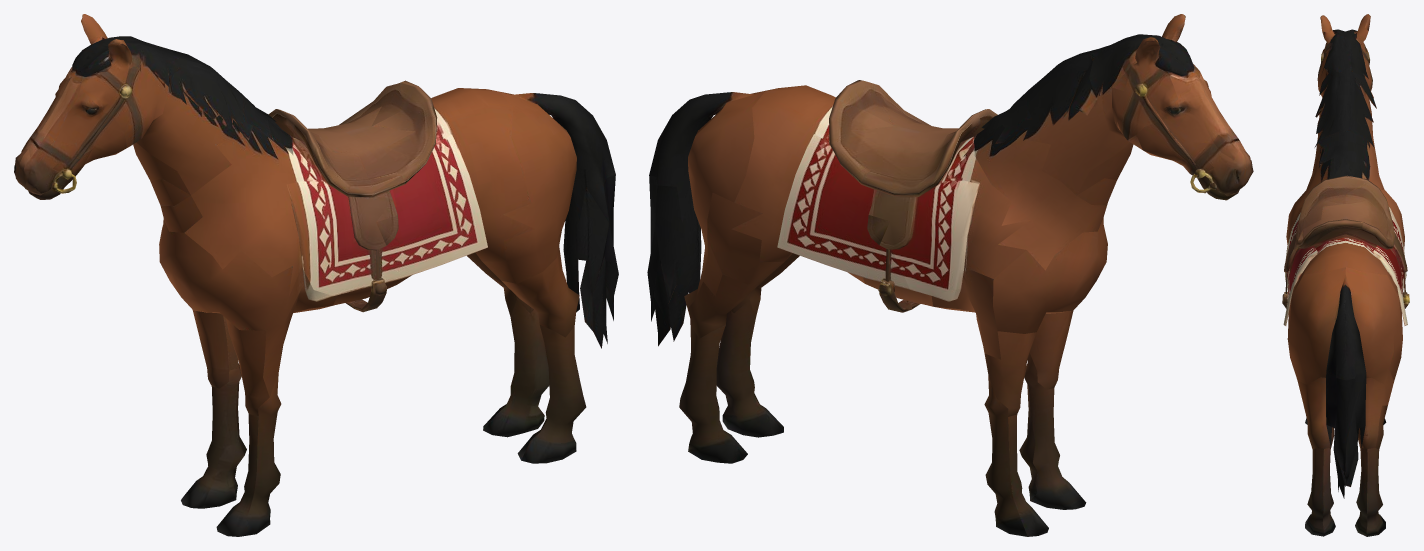
The model's file is war-horse-alternative.glb.
3 views of the same model, side by side, from view 1: azimuth 30°, elevation 25°; view 2: azimuth 150°, elevation 25°; view 3: azimuth 270°, elevation 25° (orthographic). The views are drawn at different scales.
Parts seen in each view (by area): view 1: mesh_node; view 2: mesh_node; view 3: mesh_node.
Boxes of the visible parts, x1,y1,x2,y2 form: mesh_node: [14, 14, 618, 536]; mesh_node: [647, 14, 1253, 536]; mesh_node: [1282, 14, 1409, 536].
Bounding box in the file's own units: 2.16 × 1.8 × 0.5712.
1 material, 1 textured.
